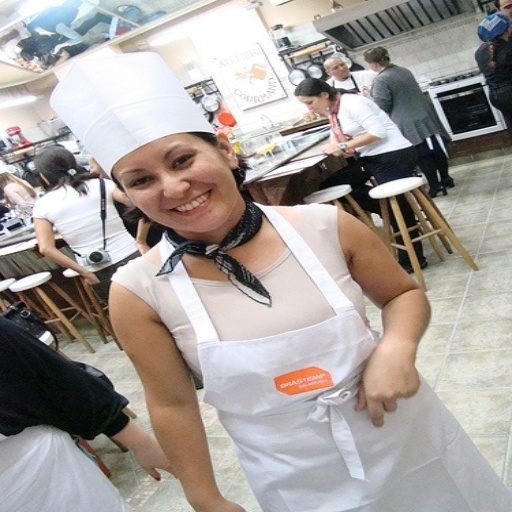hand: (357, 323, 427, 424), (132, 435, 181, 480), (192, 496, 247, 510), (323, 141, 341, 156), (83, 270, 98, 284), (139, 242, 152, 254)
